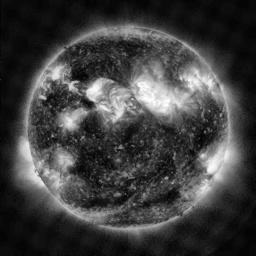solar flares: (136, 72, 177, 117), (87, 78, 124, 116), (181, 63, 206, 90), (59, 107, 88, 126), (51, 146, 74, 169), (210, 151, 219, 174), (49, 65, 63, 78), (196, 148, 205, 162)
sunspots: (112, 39, 145, 59), (192, 117, 212, 147), (124, 128, 147, 154), (77, 147, 99, 173), (74, 42, 105, 60), (163, 126, 174, 176), (43, 93, 64, 113), (153, 190, 178, 205), (97, 147, 114, 166), (87, 116, 102, 137), (92, 198, 136, 204), (72, 65, 88, 80), (80, 98, 89, 107)
